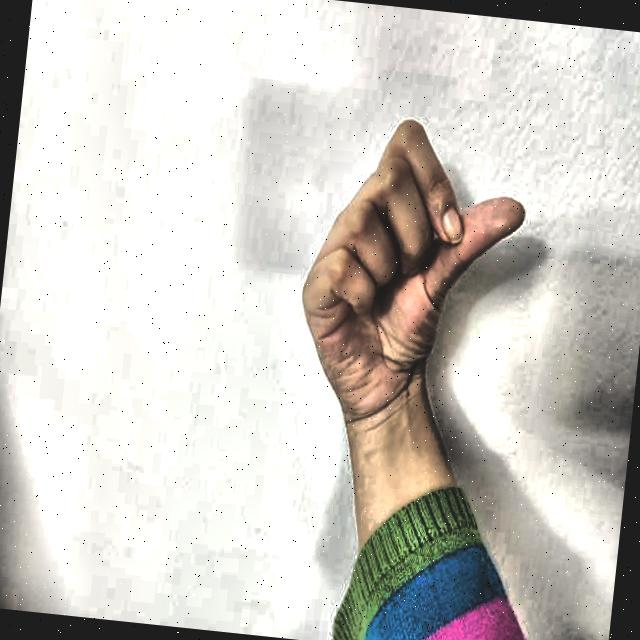Ay: (259, 80, 562, 452)
